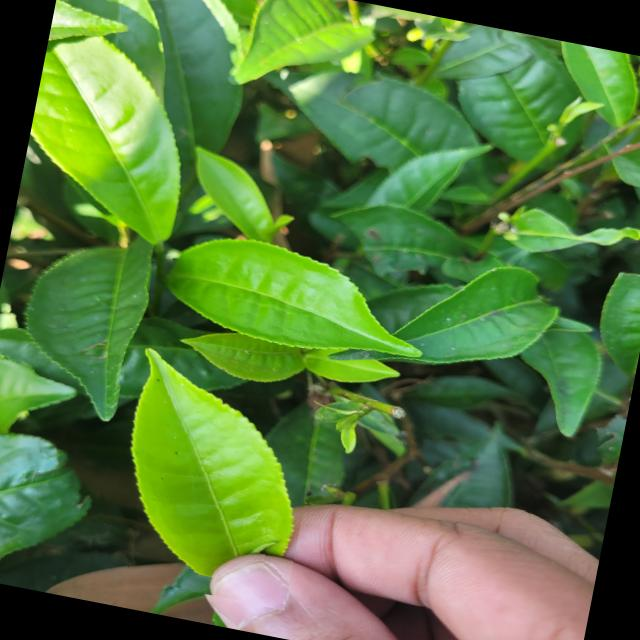Catagory A(1-2 days): (79, 338, 329, 610)
